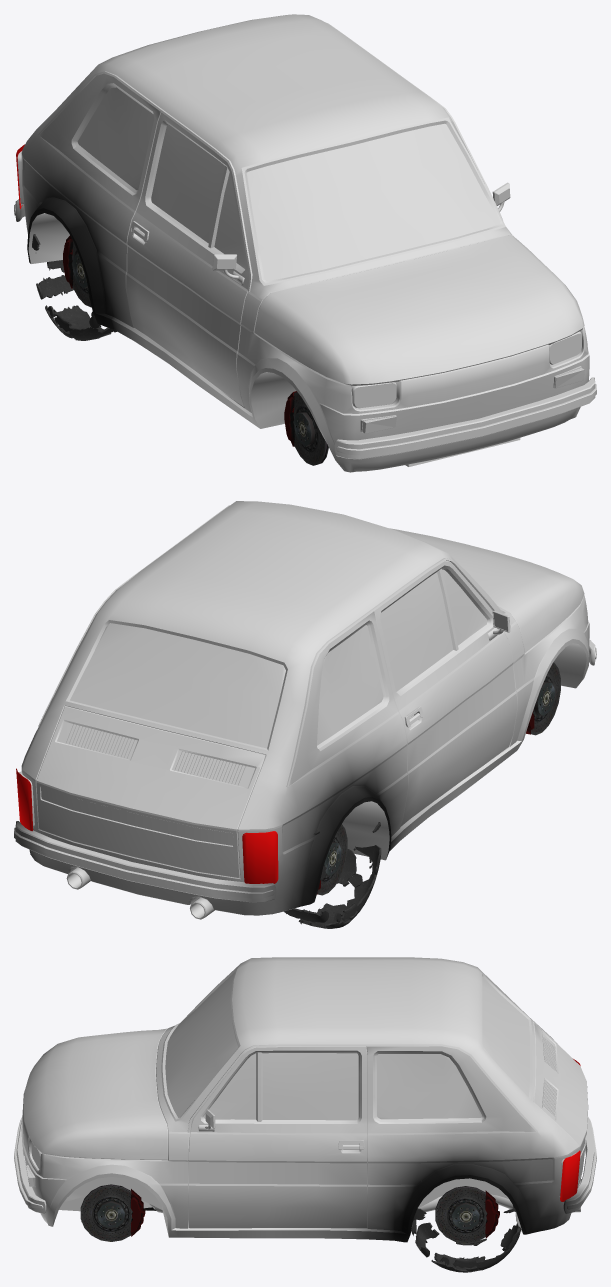
File: 08_Fiat.fbx
3 renders of one model, top to bottom at view 1: azimuth 30°, elevation 25°; view 2: azimuth 150°, elevation 25°; view 3: azimuth 270°, elevation 25°, orthographic. The views are drawn at different scales.
Visible parts, largest first — view 1: Body_Duco, Body_Glass, Kit_00_Duco (×2), Body_Matte, Body_Chrome, Body_Glossy, Rotor (×2), Tyre_Explode_03; view 2: Body_Duco, Body_Glass, Kit_00_Duco (×2), Body_Chrome, Body_Matte, BrakeLights, Rotor (×2); view 3: Body_Duco, Body_Glass, Kit_00_Duco (×2), Body_Matte, Rotor (×2), Body_Chrome, Caliper (×2), BrakeLights, Tyre_Explode_03.
Part boxes in pixels (<box>): Body_Duco: <box>21,14,589,472</box>; Body_Glass: <box>77,87,499,280</box>; Kit_00_Duco (×2): <box>254,234,584,385</box>; Body_Matte: <box>17,85,580,466</box>; Body_Chrome: <box>14,182,596,459</box>; Body_Glossy: <box>17,159,584,433</box>; Rotor (×2): <box>72,241,328,465</box>; Tyre_Explode_03: <box>36,275,73,299</box>; Body_Duco: <box>21,501,589,915</box>; Body_Glass: <box>70,569,487,748</box>; Kit_00_Duco (×2): <box>390,528,584,652</box>; Body_Chrome: <box>14,610,596,919</box>; Body_Matte: <box>19,568,586,909</box>; BrakeLights: <box>16,768,278,883</box>; Rotor (×2): <box>317,662,560,895</box>; Body_Duco: <box>21,957,588,1242</box>; Body_Glass: <box>165,972,529,1120</box>; Kit_00_Duco (×2): <box>23,1028,167,1160</box>; Body_Matte: <box>40,966,576,1235</box>; Rotor (×2): <box>80,1184,487,1243</box>; Body_Chrome: <box>14,1109,596,1213</box>; Caliper (×2): <box>130,1189,499,1238</box>; BrakeLights: <box>560,1059,580,1201</box>; Tyre_Explode_03: <box>415,1222,439,1257</box>.
Size of what is drawn, in the model's own units: 1.49 by 1.32 by 3.05.
